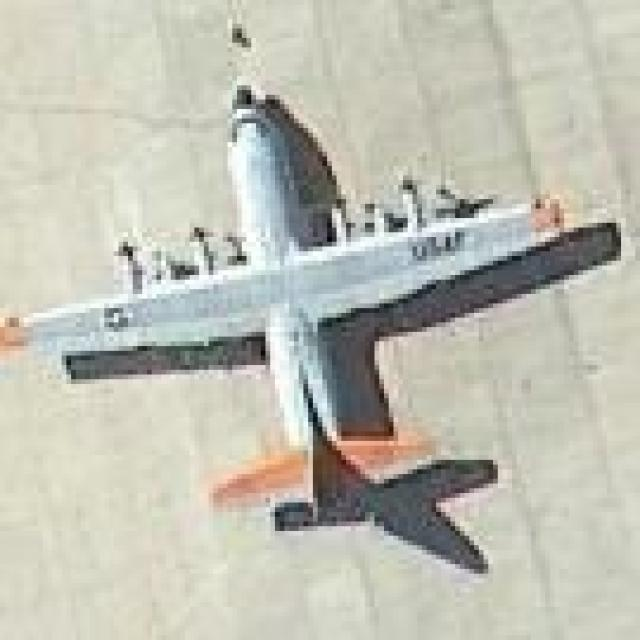C-130_TopDown: (0, 74, 621, 576)
